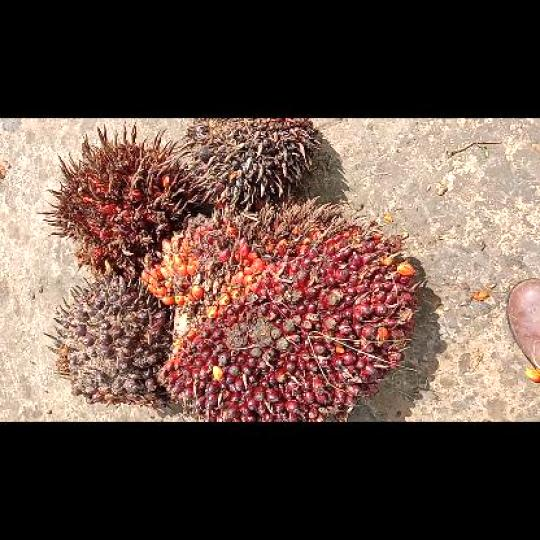kurang masak: (53, 277, 173, 406)
masak: (139, 199, 427, 421)
terlalu masak: (39, 124, 202, 276)
